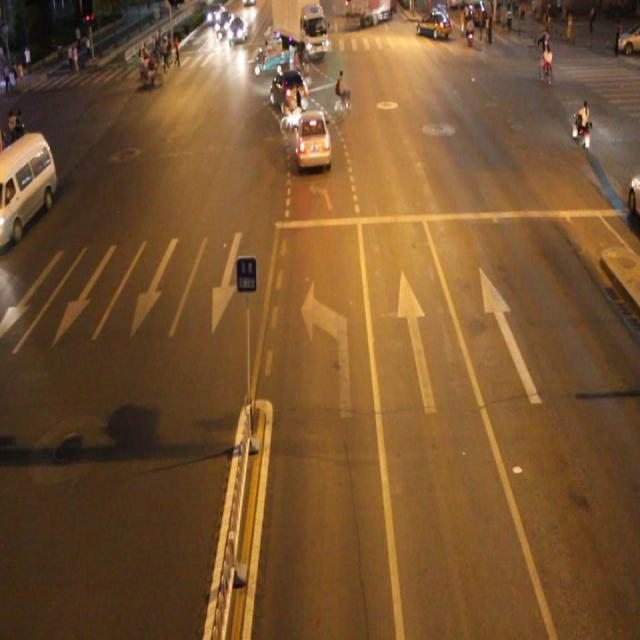car: (293, 108, 332, 171), (269, 69, 309, 118)
truck: (1, 133, 56, 245)
